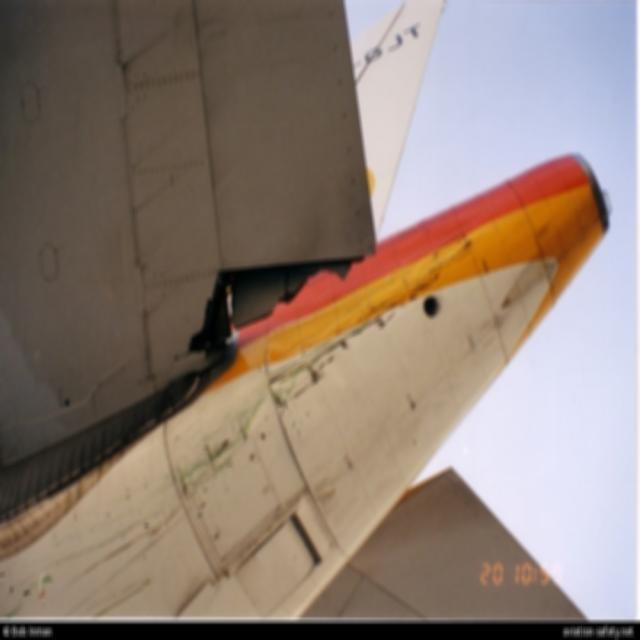crack: (171, 253, 366, 366)
